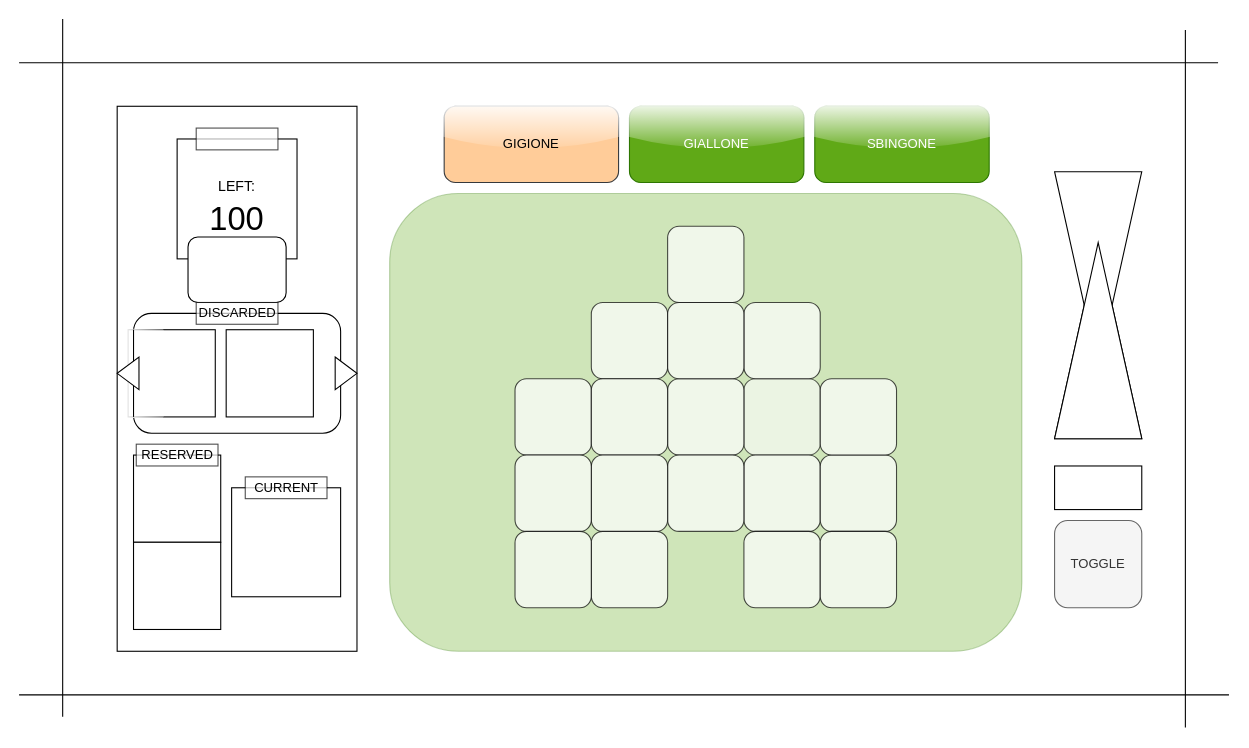
The diagram is 1249 pixels wide and 748 high, and some of its shapes have lost their labels. Each missing label, with the centre of its shape:
"PICK" belongs at pixel 236 269.
"PILE" belongs at pixel 236 138.
"TIMESTAMP LEFT" belongs at pixel 1097 487.
